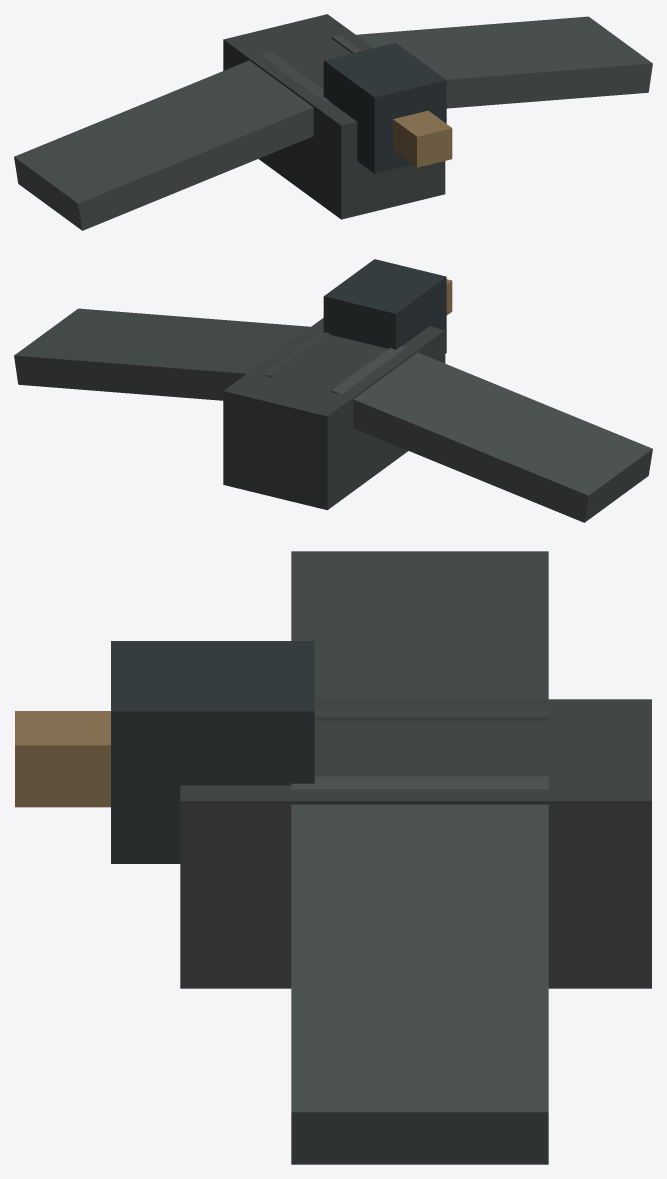
The model's file is roadside_lookout_bird.glb.
The picture shows the model from 3 angles, top to bottom: view 1: azimuth 30°, elevation 25°; view 2: azimuth 150°, elevation 25°; view 3: azimuth 270°, elevation 25°; orthographic projection. The views are drawn at different scales.
Visible parts, largest first — view 1: Wing, Wing.001, Body, Head, Beak; view 2: Wing, Body, Wing.001, Head; view 3: Wing.001, Body, Wing, Head, Beak.
Part boxes in pixels (box(x1,y1,x2,y2)): Wing: box(14, 51, 329, 230); Wing.001: box(331, 16, 652, 108); Body: box(223, 14, 445, 219); Head: box(323, 43, 446, 173); Beak: box(393, 110, 452, 167); Wing: box(331, 346, 652, 522); Body: box(223, 318, 445, 510); Wing.001: box(14, 308, 329, 400); Head: box(323, 259, 446, 353); Wing.001: box(291, 776, 548, 1164); Body: box(180, 699, 651, 988); Wing: box(291, 551, 548, 720); Head: box(111, 641, 314, 863); Beak: box(15, 711, 110, 807).
Size of the model in its own units: 0.7176 by 0.156 by 0.3445.
